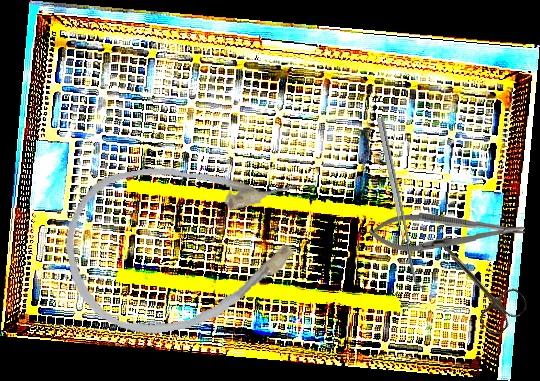Cannula: (55, 143, 318, 347)
Iris Scissors: (416, 222, 532, 339)
Needle Holder: (369, 210, 526, 254)
Spatula Surgical: (376, 115, 428, 293)
